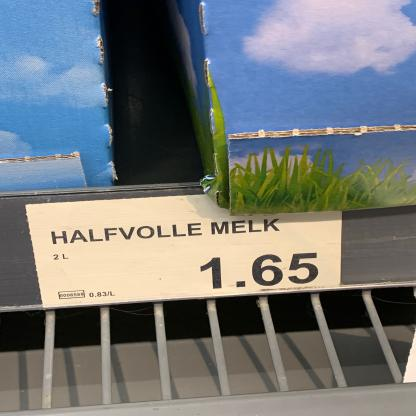prtg: (25, 195, 342, 309)
